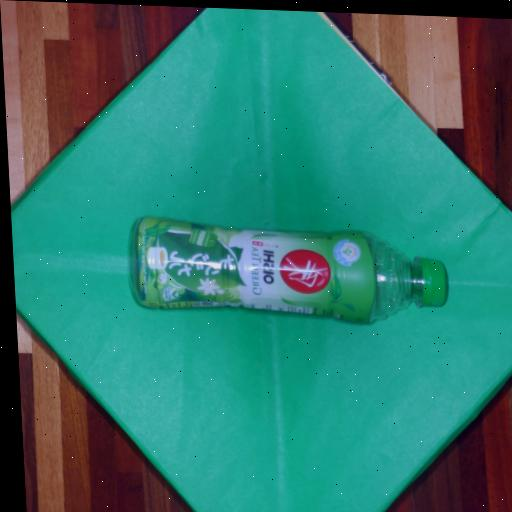bottle: (114, 206, 462, 336)
